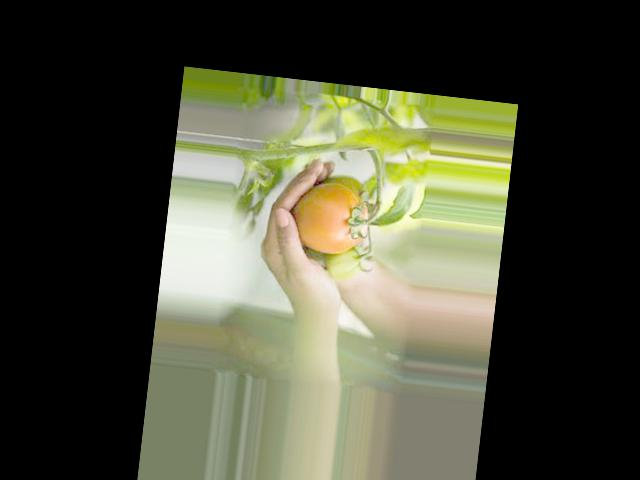tomato: (292, 180, 370, 257)
